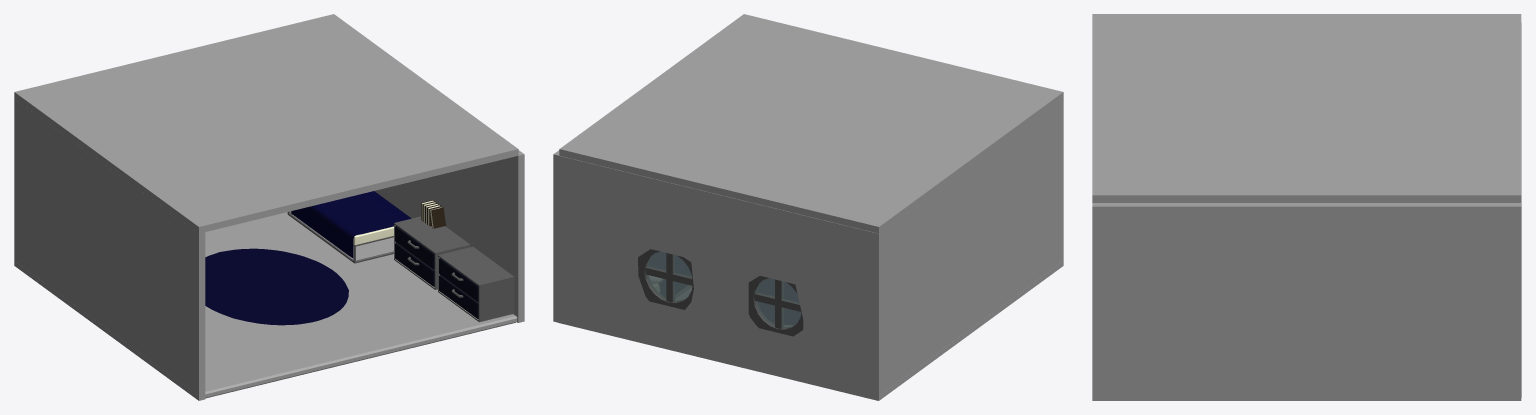
The model's file is MemoryRoom.fbx.
3 views of the same model, side by side, from view 1: azimuth 30°, elevation 25°; view 2: azimuth 150°, elevation 25°; view 3: azimuth 270°, elevation 25° (orthographic). The views are drawn at different scales.
Parts seen in each view (by area): view 1: polySurface3661, polySurface3796, polySurface3608, polySurface3719, polySurface3685, polySurface3789, polySurface3770, polySurface3547, polySurface3645, polySurface3589, polySurface3765; view 2: polySurface3661, polySurface3664, polySurface3796, polySurface3717, polySurface3685, polySurface3608, polySurface3663, polySurface3668, polySurface3702, polySurface3698, polySurface3789, polySurface3719 (+1 smaller); view 3: polySurface3765, polySurface3661, polySurface3796, polySurface3789.
Boxes of the visible parts, x1,y1,x2,y2 form: polySurface3661: (14, 14, 518, 233); polySurface3796: (15, 15, 516, 230); polySurface3608: (14, 99, 205, 400); polySurface3719: (15, 211, 517, 398); polySurface3685: (15, 101, 203, 371); polySurface3789: (376, 150, 524, 322); polySurface3770: (205, 248, 348, 325); polySurface3547: (438, 246, 514, 322); polySurface3645: (291, 191, 411, 258); polySurface3589: (394, 216, 470, 289); polySurface3765: (374, 152, 522, 320); polySurface3661: (559, 14, 1063, 233); polySurface3664: (558, 155, 877, 400); polySurface3796: (562, 15, 1062, 231); polySurface3717: (558, 157, 877, 400); polySurface3685: (880, 101, 1062, 370); polySurface3608: (878, 99, 1063, 400); polySurface3663: (646, 251, 692, 302); polySurface3668: (755, 278, 801, 328); polySurface3702: (638, 249, 693, 309); polySurface3698: (748, 276, 803, 336); polySurface3789: (553, 150, 559, 322); polySurface3719: (880, 262, 1062, 398); polySurface3765: (1094, 204, 1519, 398); polySurface3661: (1092, 14, 1521, 202); polySurface3796: (1094, 15, 1519, 200); polySurface3789: (1092, 203, 1521, 400).
Bounding box in the file's own units: 102 × 52.02 × 100.
